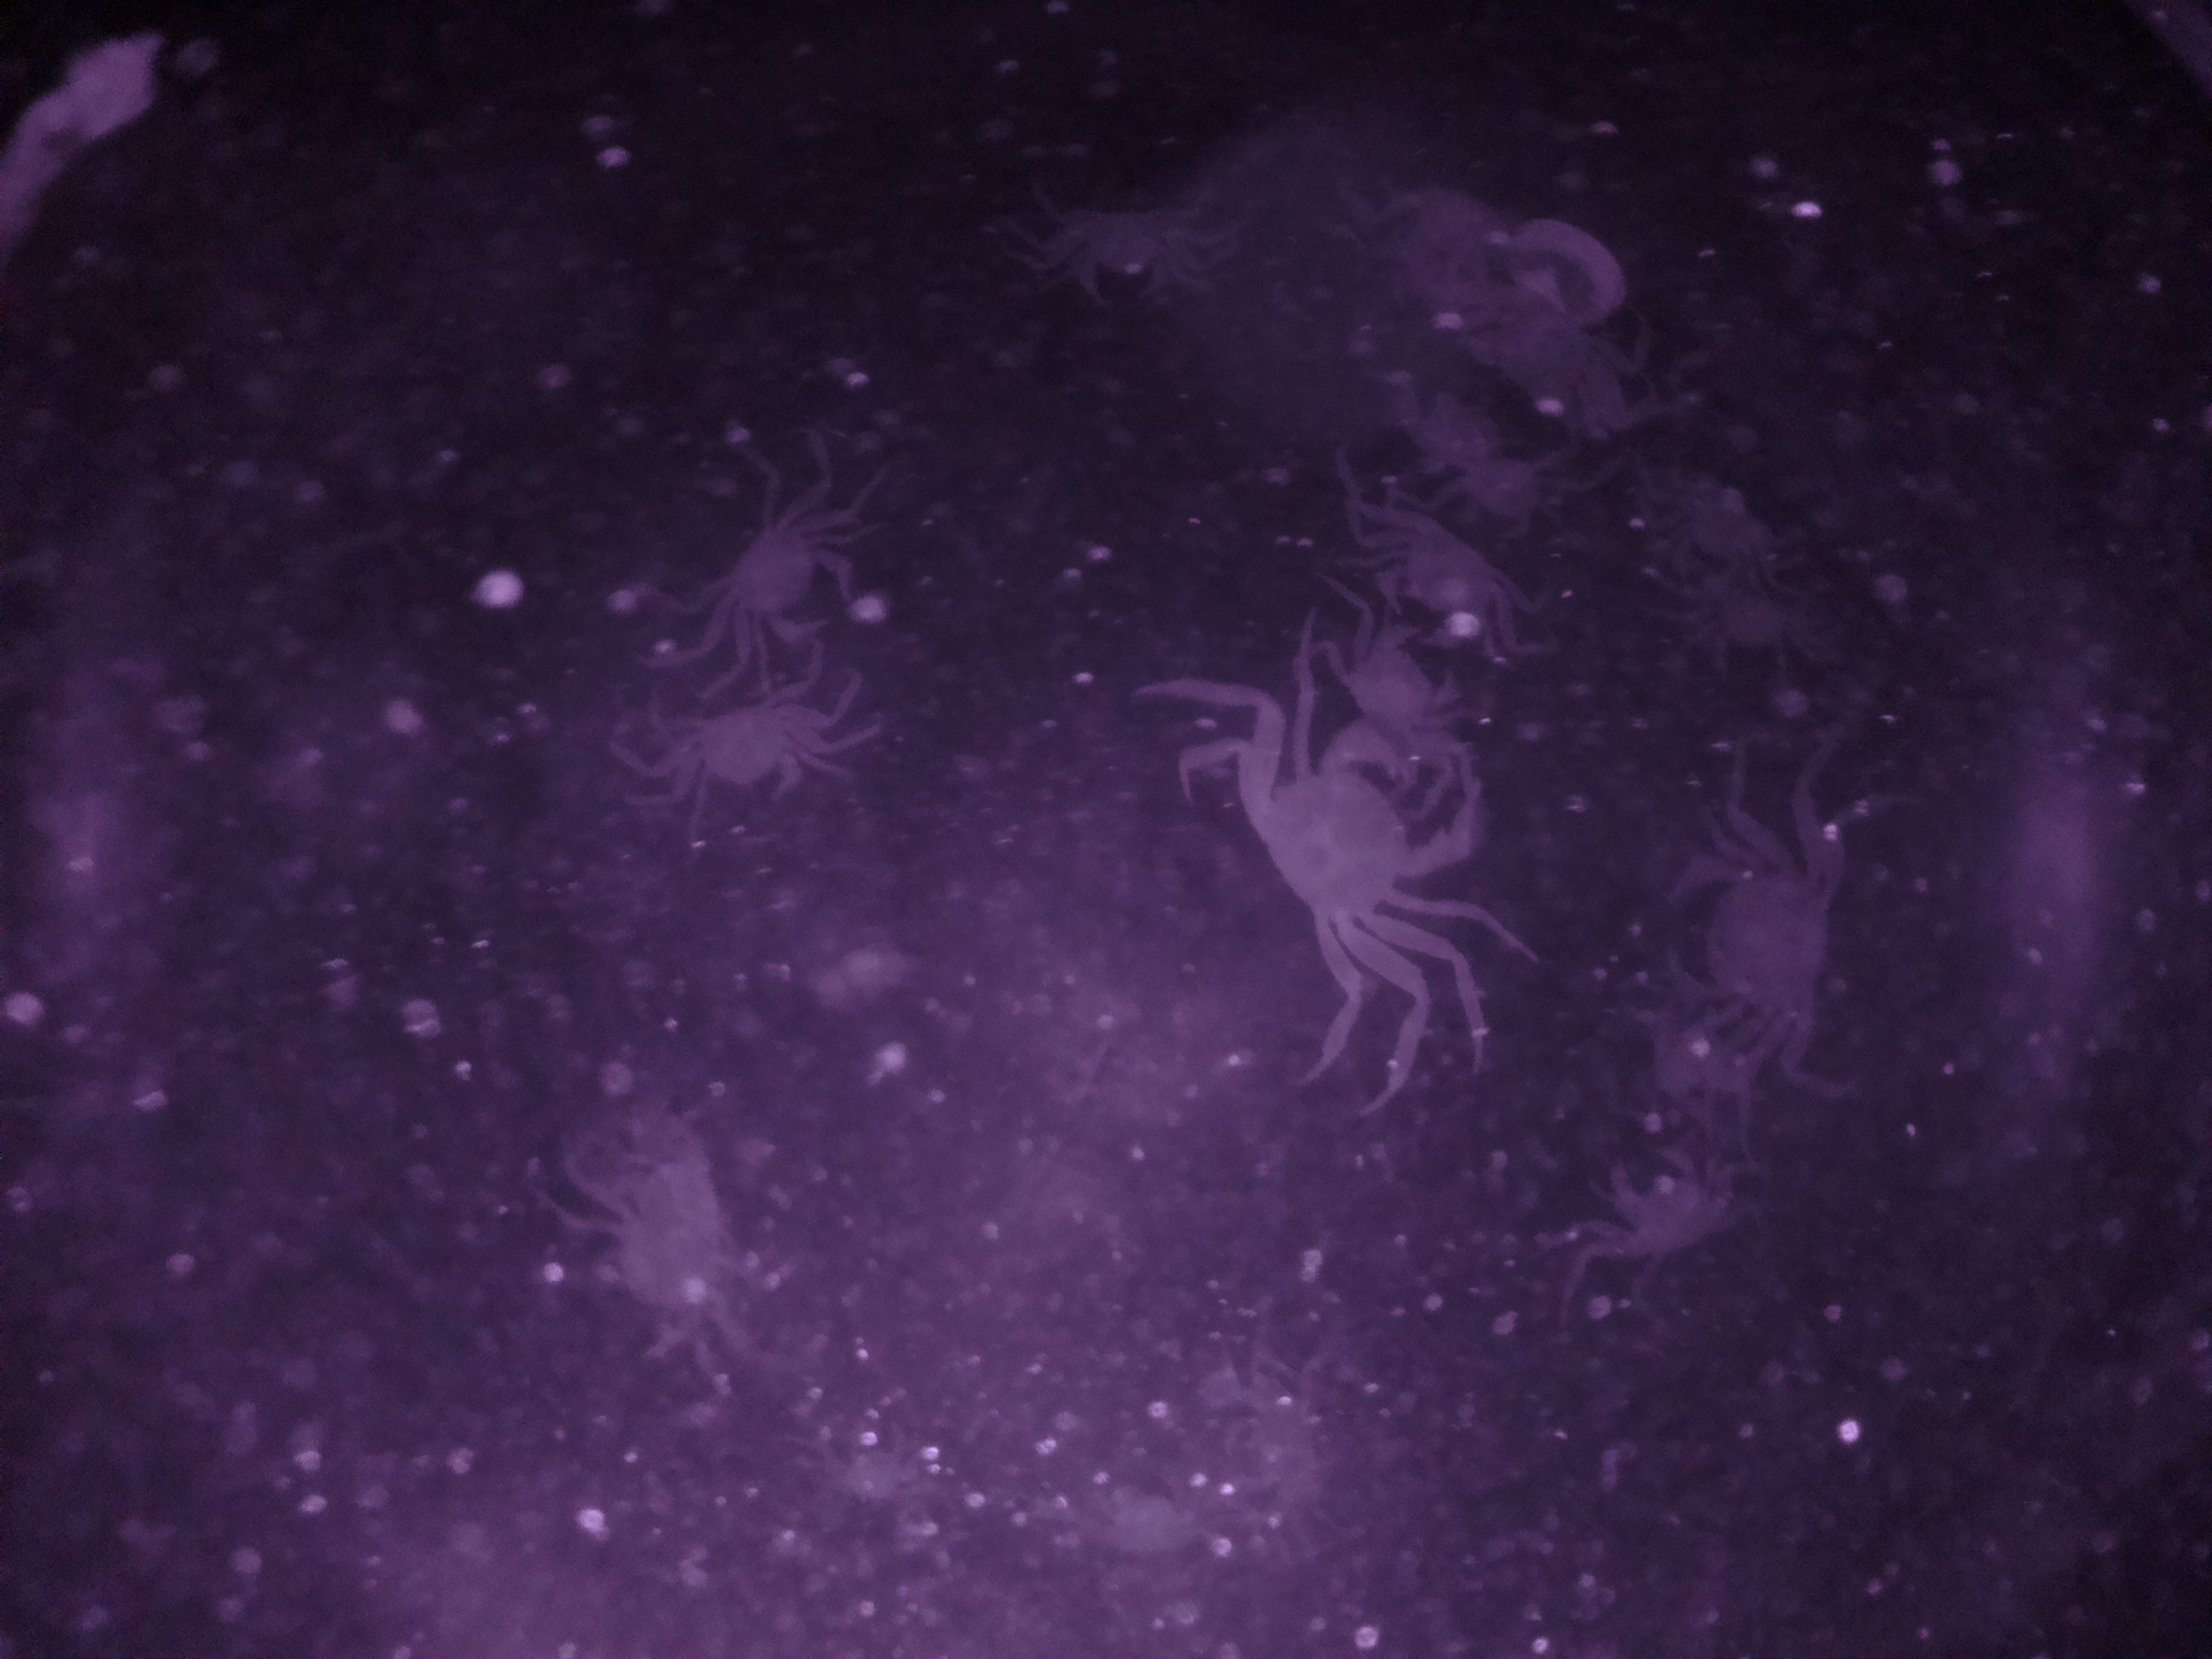Crab: (1205, 713, 1496, 979), (686, 483, 866, 669), (651, 697, 824, 826)
